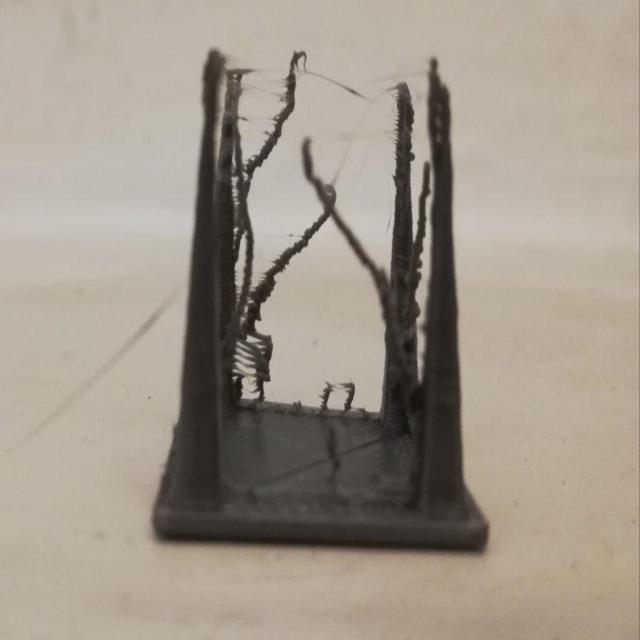Stringing: (228, 62, 408, 259)
